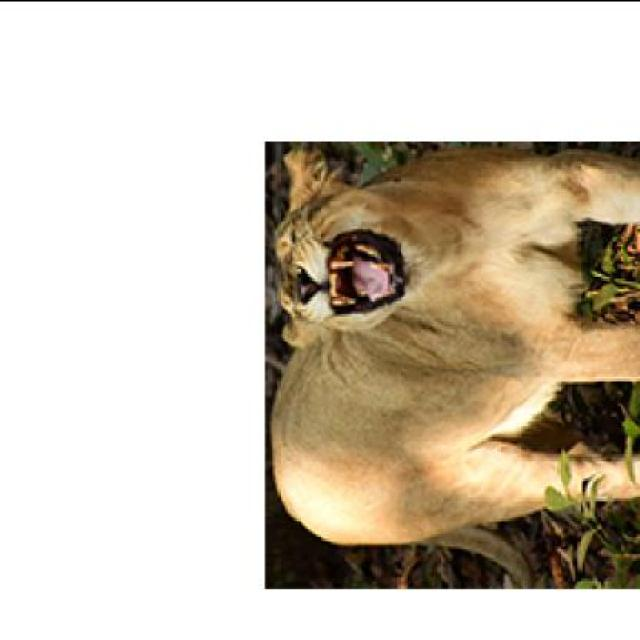Lion: (247, 123, 638, 575)
